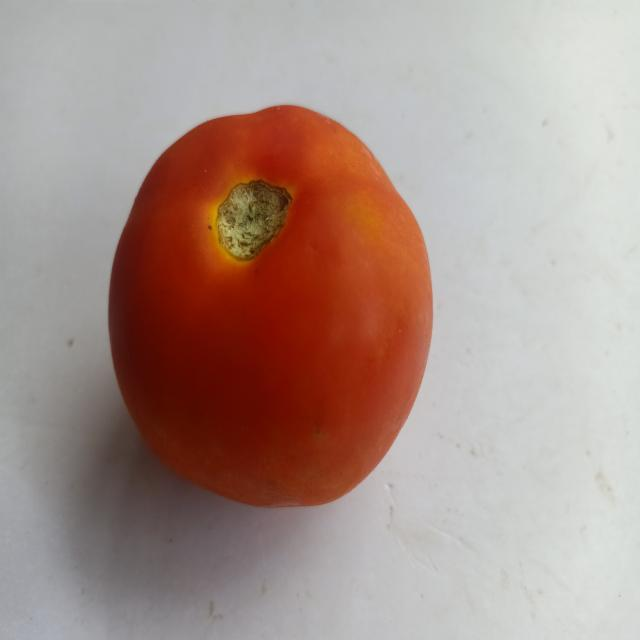Tomato: (96, 86, 458, 547)
